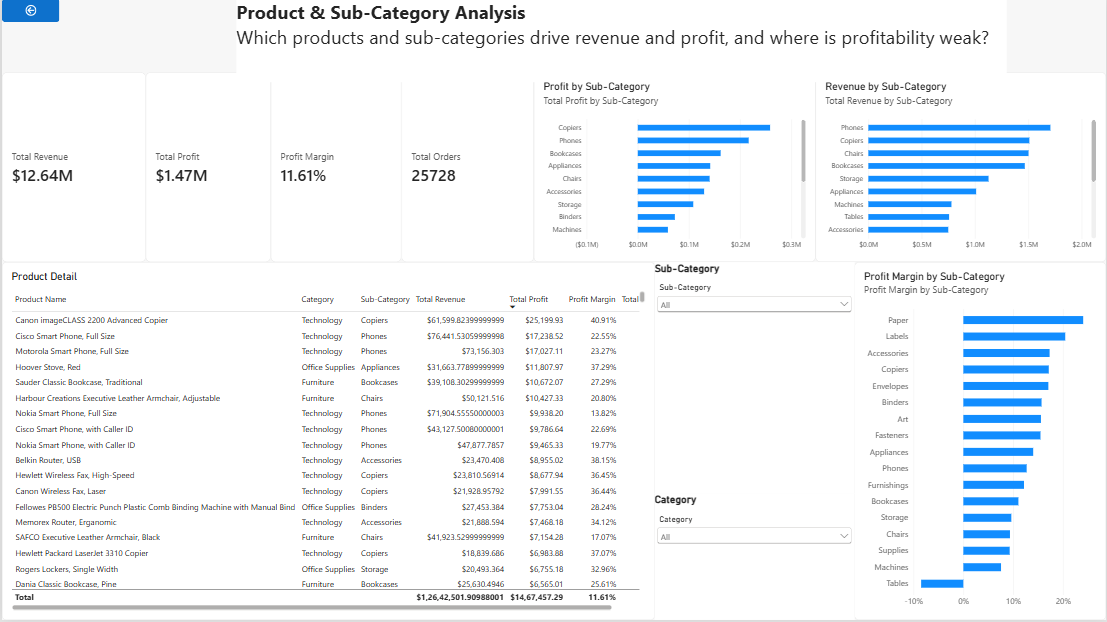

The dashboard page shown, as its layout file describes it:
{"tool":"powerbi","page":{"name":"Product Analysis","canvas":[1920,1080],"ordinal":1},"visuals":[{"type":"cardVisual","fields":{"Data":["CLEAN_GlobalSuperstore_2016.Total Revenue"]},"box":[0,127.5,250,330],"z":0},{"type":"cardVisual","fields":{"Data":["CLEAN_GlobalSuperstore_2016.Total Orders"]},"box":[695,127.5,230,330],"z":1000},{"type":"cardVisual","fields":{"Data":["CLEAN_GlobalSuperstore_2016.Profit Margin"]},"box":[467.5,127.5,227.5,330],"z":2000},{"type":"cardVisual","fields":{"Data":["CLEAN_GlobalSuperstore_2016.Total Profit"]},"box":[250,127.5,217.5,330],"z":3000},{"type":"clusteredBarChart","title":"Profit by Sub-Category","fields":{"Category":["CLEAN_GlobalSuperstore_2016.Sub-Category"],"Y":["CLEAN_GlobalSuperstore_2016.Total Profit"]},"box":[925,127.5,490,330],"z":4000},{"type":"clusteredBarChart","title":"Revenue by Sub-Category","fields":{"Category":["CLEAN_GlobalSuperstore_2016.Sub-Category"],"Y":["CLEAN_GlobalSuperstore_2016.Total Revenue"]},"box":[1415,127.5,505,330],"z":5000},{"type":"clusteredBarChart","title":"Profit Margin by Sub-Category","fields":{"Category":["CLEAN_GlobalSuperstore_2016.Sub-Category"],"Y":["CLEAN_GlobalSuperstore_2016.Profit Margin"]},"box":[1482.5,457.5,437.5,622.5],"z":6000},{"type":"tableEx","title":"Product Detail","fields":{"Values":["CLEAN_GlobalSuperstore_2016.Product Name","CLEAN_GlobalSuperstore_2016.Category","CLEAN_GlobalSuperstore_2016.Sub-Category","CLEAN_GlobalSuperstore_2016.Total Revenue","CLEAN_GlobalSuperstore_2016.Total Profit","CLEAN_GlobalSuperstore_2016.Profit Margin","CLEAN_GlobalSuperstore_2016.Total Orders"]},"box":[0,457.5,1135,622.5],"z":7000},{"type":"actionButton","box":[0,0,100,40],"z":8000},{"type":"slicer","title":"Category","fields":{"Values":["CLEAN_GlobalSuperstore_2016.Category"]},"box":[1135,892.5,347.5,187.5],"z":9000},{"type":"slicer","title":"Sub-Category","fields":{"Values":["CLEAN_GlobalSuperstore_2016.Sub-Category"]},"box":[1135,487.5,347.5,372.5],"z":10000},{"type":"textbox","box":[407.5,0,1340,145],"z":14000}]}

Visuals, with their boxes in screenshot pixels (x1, y1, x2, y2), scaled from the page's 1920x1080 canvas onto the 1107x622 screenshot:
cardVisual - CLEAN_GlobalSuperstore_2016.Total Revenue: select_region(0, 73, 144, 263)
cardVisual - CLEAN_GlobalSuperstore_2016.Total Orders: select_region(401, 73, 533, 263)
cardVisual - CLEAN_GlobalSuperstore_2016.Profit Margin: select_region(270, 73, 401, 263)
cardVisual - CLEAN_GlobalSuperstore_2016.Total Profit: select_region(144, 73, 270, 263)
"Profit by Sub-Category" clusteredBarChart: select_region(533, 73, 816, 263)
"Revenue by Sub-Category" clusteredBarChart: select_region(816, 73, 1106, 263)
"Profit Margin by Sub-Category" clusteredBarChart: select_region(855, 263, 1106, 621)
"Product Detail" tableEx: select_region(0, 263, 654, 621)
actionButton: select_region(0, 0, 58, 23)
"Category" slicer: select_region(654, 514, 855, 621)
"Sub-Category" slicer: select_region(654, 281, 855, 495)
textbox: select_region(235, 0, 1008, 84)
